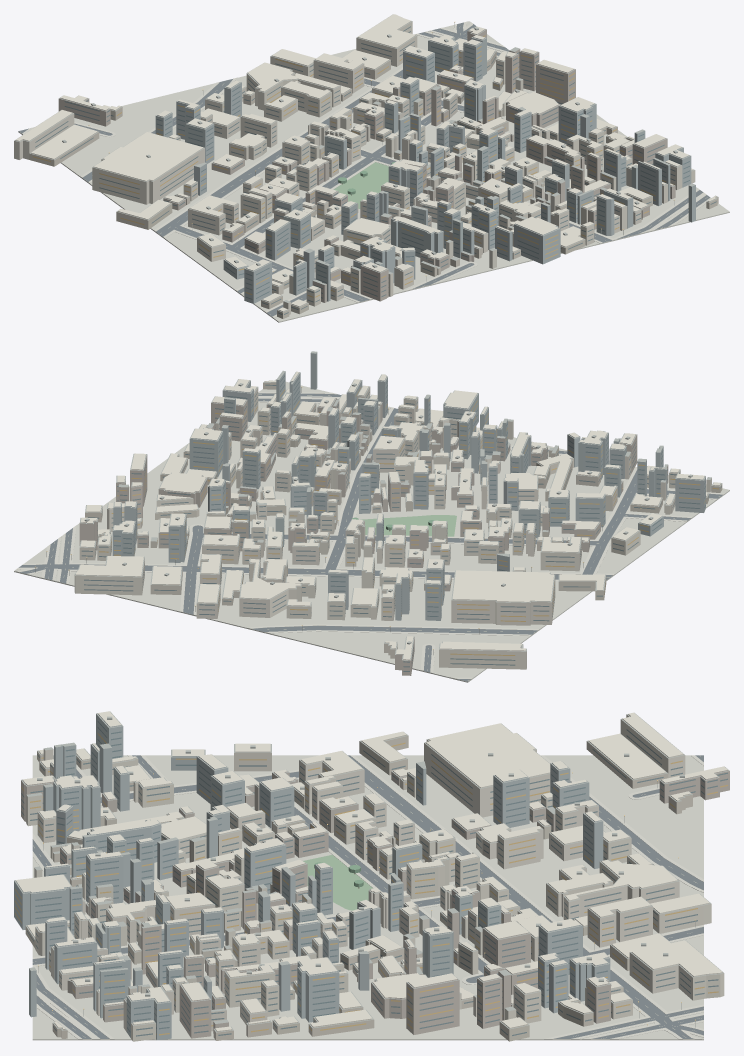
3 views of the same model, one above another, from view 1: azimuth 30°, elevation 25°; view 2: azimuth 150°, elevation 25°; view 3: azimuth 270°, elevation 25° (orthographic). The views are drawn at different scales.
Visible parts, largest first — view 1: city; view 2: city; view 3: city.
Boxes of the visible parts, <box> form: city: <box>14,14,729,322</box>; city: <box>14,351,729,682</box>; city: <box>14,711,729,1041</box>.
Size of the model in its own units: 539 by 40.95 by 533.
